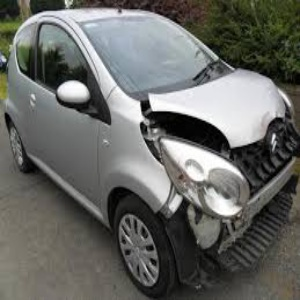bonnet: (157, 88, 286, 137)
bumper: (183, 211, 286, 283)
